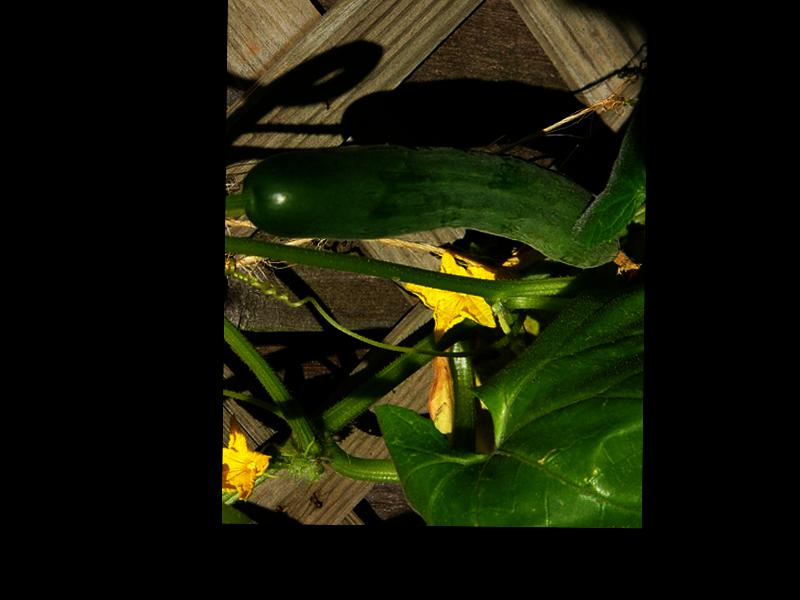Cucumber: (245, 141, 642, 269)
